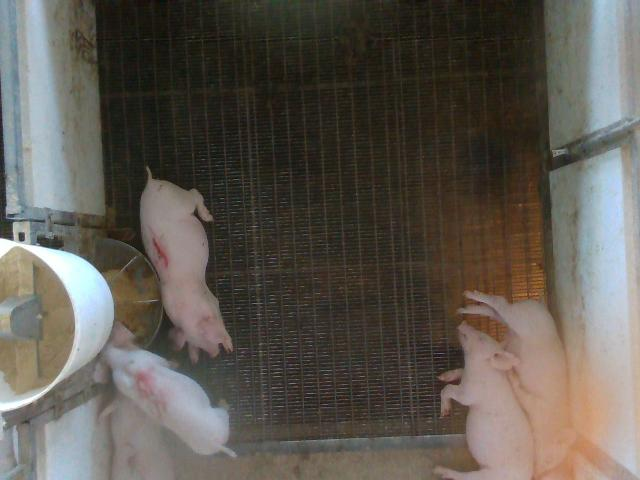pig-1: (140, 168, 232, 362)
pig-3: (101, 391, 174, 478)
pig-5: (95, 321, 236, 457)
